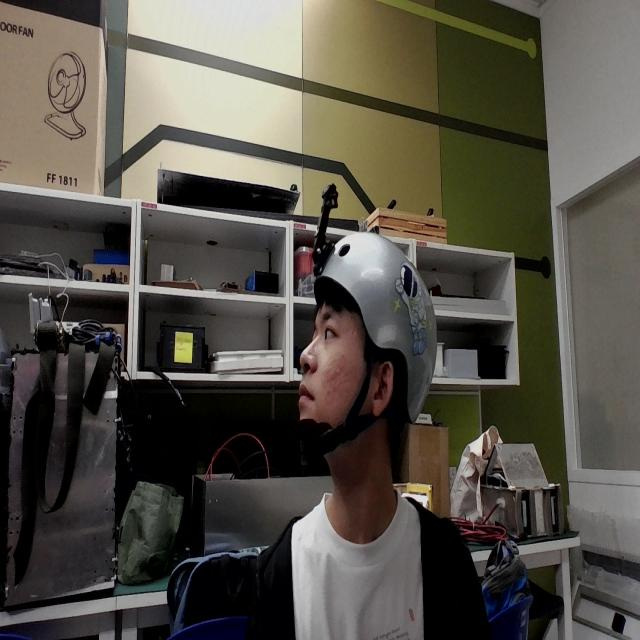With Helmet: (264, 150, 477, 528)
